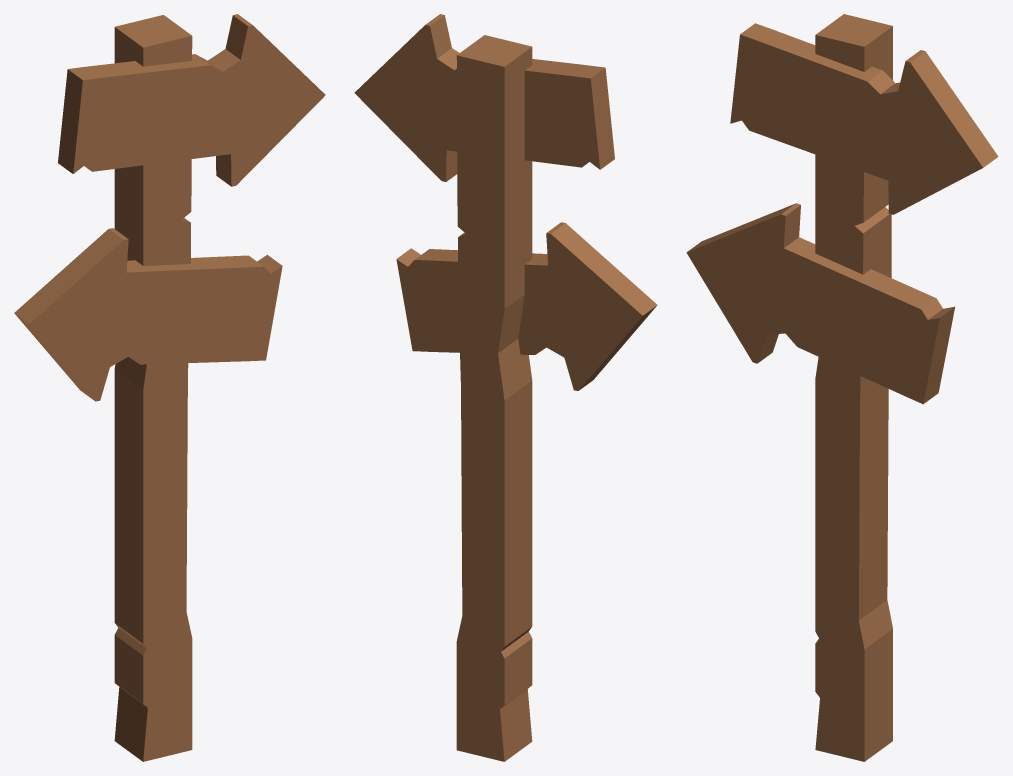
File: Sign_LeftRight.glb
The picture shows the model from 3 angles, left to right: view 1: azimuth 30°, elevation 25°; view 2: azimuth 150°, elevation 25°; view 3: azimuth 330°, elevation 25°; orthographic projection. The views are drawn at different scales.
Visible parts, largest first — view 1: Sign_LeftRight; view 2: Sign_LeftRight; view 3: Sign_LeftRight.
Boxes of the visible parts, x1,y1,x2,y2 form: Sign_LeftRight: (14, 14, 325, 761); Sign_LeftRight: (354, 14, 657, 761); Sign_LeftRight: (686, 14, 998, 761).
Bounding box in the file's own units: 1.3 × 3.01 × 0.2746.
